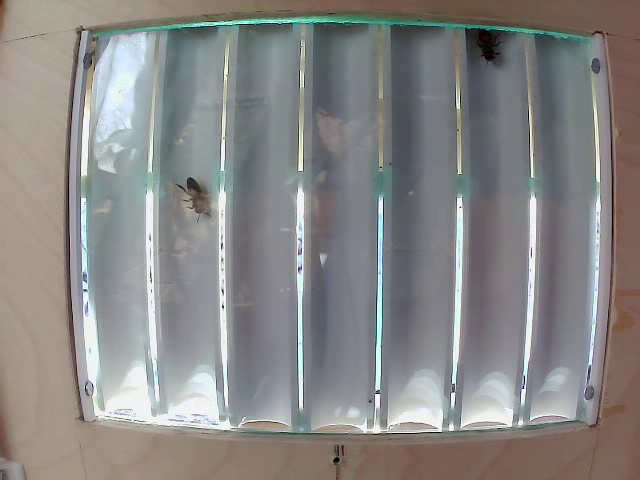bee: (169, 170, 217, 218), (469, 24, 505, 76)
